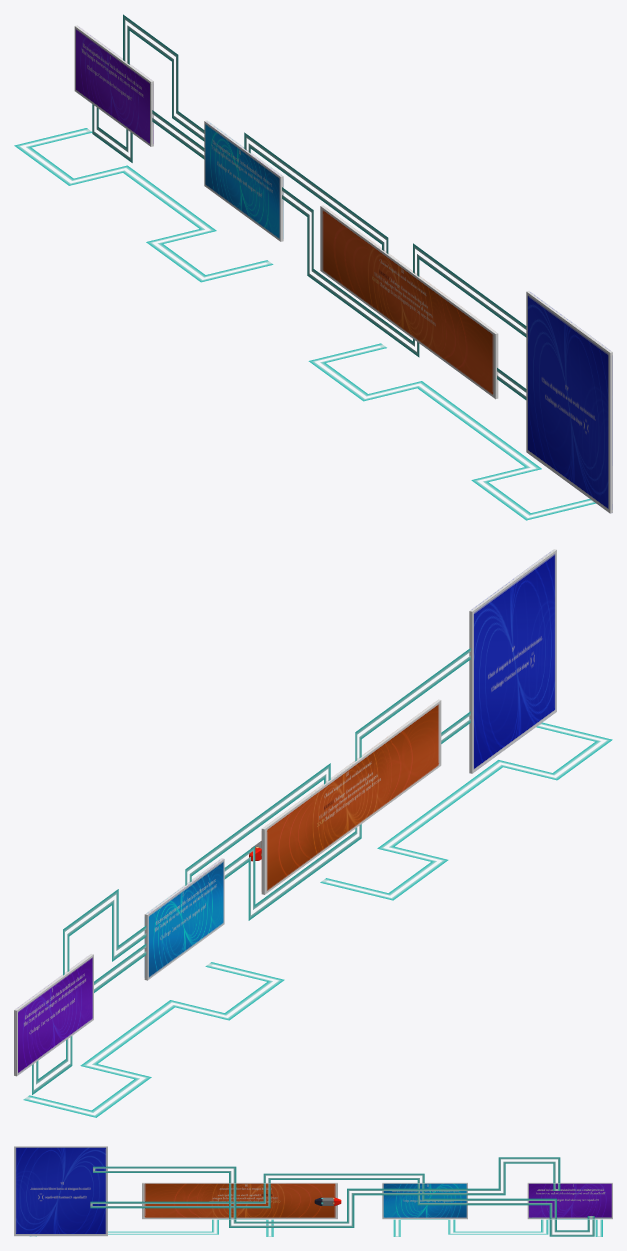
Rendered from MagnetBoards_Demo.fbx.
3 views of the same model, one above another, from view 1: azimuth 30°, elevation 25°; view 2: azimuth 150°, elevation 25°; view 3: azimuth 270°, elevation 25° (orthographic). The views are drawn at different scales.
Visible parts, largest first — view 1: Magnet_Board_04, Magnet_Board_03, MagnetBoard_Strips, Object002, Magnet_Board_01, Magnet_Board_02; view 2: Magnet_Board_04, Magnet_Board_03, MagnetBoard_Strips, Object002, Magnet_Board_02, Magnet_Board_01; view 3: Magnet_Board_04, MagnetBoard_Strips, Magnet_Board_03, Magnet_Board_01, Magnet_Board_02, Object002, Board_Magnet.
Part boxes in pixels (<box>): Magnet_Board_04: <box>526,291,612,513</box>; Magnet_Board_03: <box>320,205,498,399</box>; MagnetBoard_Strips: <box>92,14,526,399</box>; Object002: <box>14,128,595,520</box>; Magnet_Board_01: <box>74,25,153,146</box>; Magnet_Board_02: <box>204,120,283,241</box>; Magnet_Board_04: <box>469,549,556,773</box>; Magnet_Board_03: <box>261,699,441,894</box>; MagnetBoard_Strips: <box>32,648,470,1094</box>; Object002: <box>23,722,612,1117</box>; Magnet_Board_02: <box>144,858,224,980</box>; Magnet_Board_01: <box>14,954,93,1076</box>; Magnet_Board_04: <box>14,1146,107,1236</box>; MagnetBoard_Strips: <box>90,1157,594,1236</box>; Magnet_Board_03: <box>142,1182,337,1219</box>; Magnet_Board_01: <box>527,1182,612,1219</box>; Magnet_Board_02: <box>382,1182,467,1219</box>; Object002: <box>30,1219,602,1236</box>; Board_Magnet: <box>314,1197,341,1205</box>.
Bounding box in the file's own units: 310 × 557 × 3351.
Materials: 1 (1 with a texture image).
